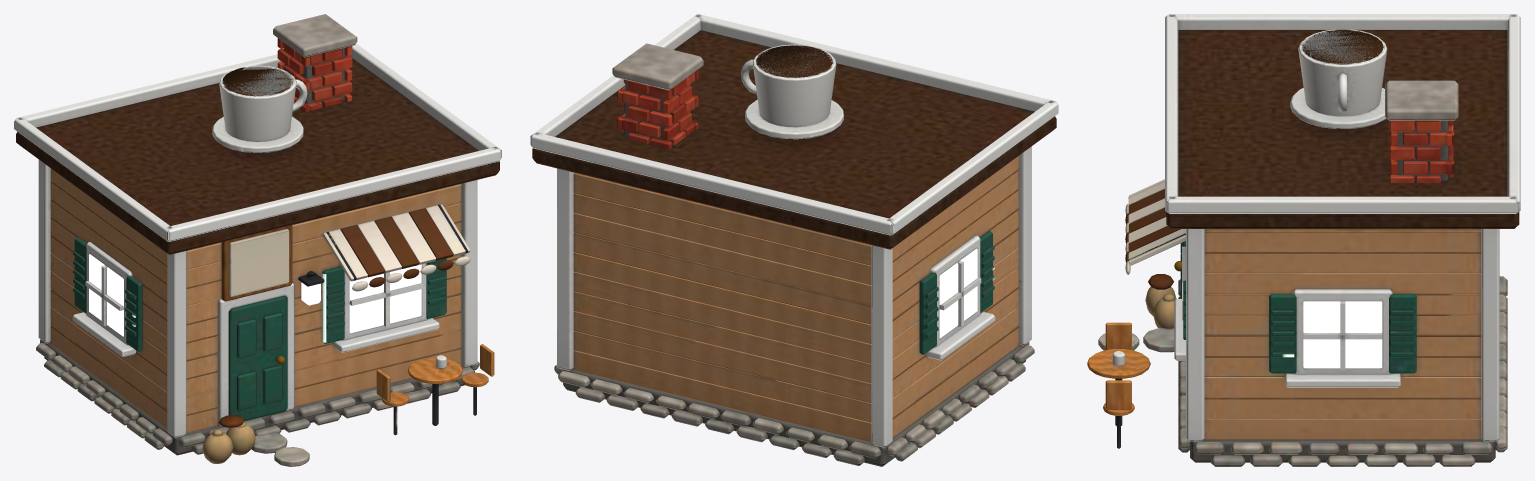
The model's file is coffee_kiosk.glb.
The picture shows the model from 3 angles, left to right: view 1: azimuth 30°, elevation 25°; view 2: azimuth 150°, elevation 25°; view 3: azimuth 270°, elevation 25°; orthographic projection. The views are drawn at different scales.
Visible parts, largest first — view 1: coffee_kiosk; view 2: coffee_kiosk; view 3: coffee_kiosk.
Part boxes in pixels (<box>): coffee_kiosk: <box>14,14,501,466</box>; coffee_kiosk: <box>530,14,1058,466</box>; coffee_kiosk: <box>1087,14,1520,466</box>.
Size of the model in its own units: 1.69 by 1.43 by 1.65.
Materials: 1 (1 with a texture image).
